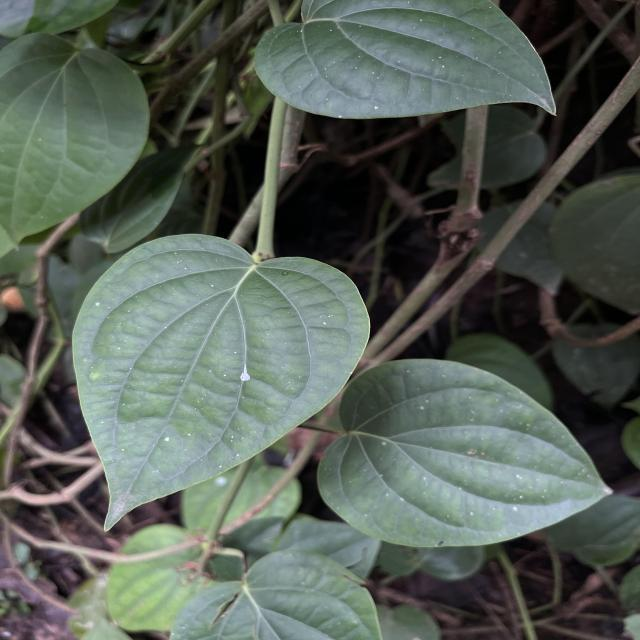Piper nigrum: (70, 231, 375, 535), (316, 357, 618, 550)
